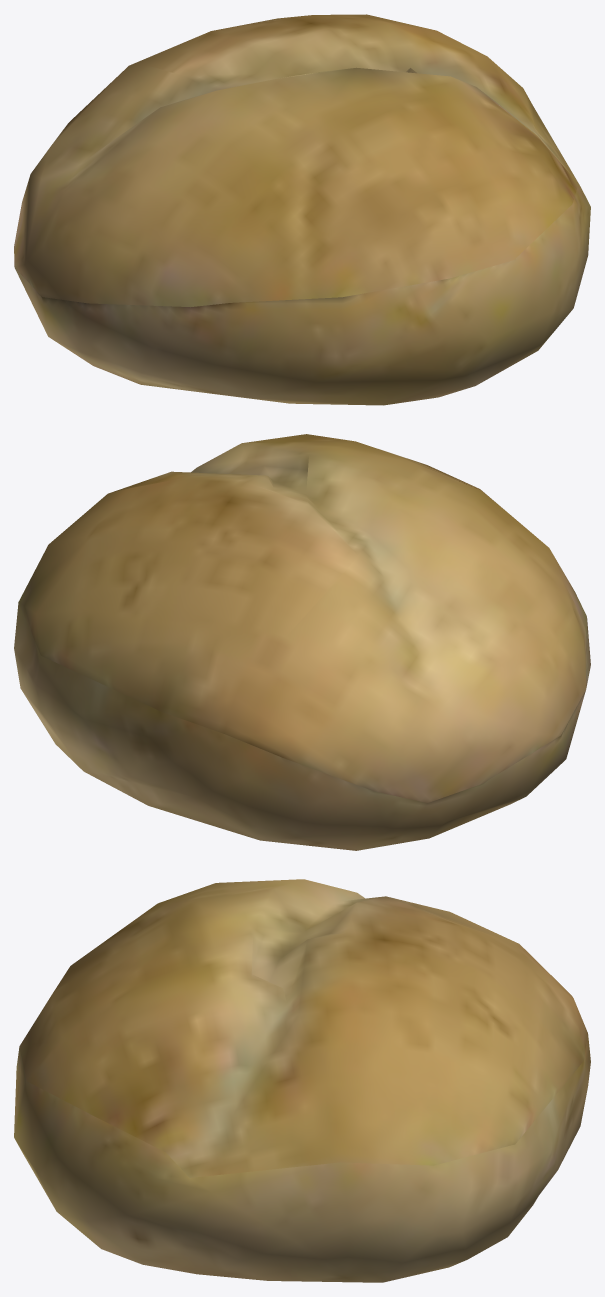
Rendered from burger_bun.glb.
The picture shows the model from 3 angles, top to bottom: view 1: azimuth 30°, elevation 25°; view 2: azimuth 150°, elevation 25°; view 3: azimuth 270°, elevation 25°; orthographic projection. The views are drawn at different scales.
Visible parts, largest first — view 1: burger_bun; view 2: burger_bun; view 3: burger_bun.
Boxes of the visible parts, x1,y1,x2,y2 form: burger_bun: [14, 14, 590, 405]; burger_bun: [14, 434, 590, 850]; burger_bun: [14, 879, 590, 1282].
Bounding box in the file's own units: 0.1105 × 0.0572 × 0.1051.
Materials: 1 (1 with a texture image).
